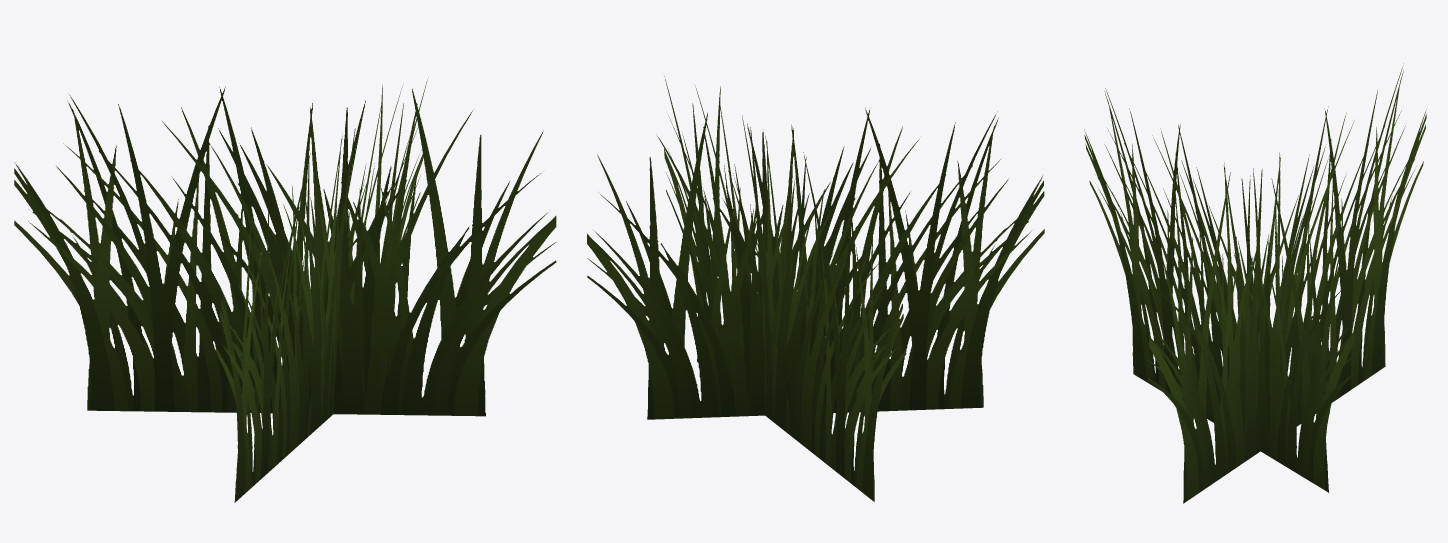
The model's file is grass_3_burnt3.glb.
3 views of the same model, side by side, from view 1: azimuth 30°, elevation 25°; view 2: azimuth 150°, elevation 25°; view 3: azimuth 270°, elevation 25° (orthographic). The views are drawn at different scales.
Visible parts, largest first — view 1: grass_3_burnt3; view 2: grass_3_burnt3; view 3: grass_3_burnt3.
Part boxes in pixels (<box>): grass_3_burnt3: <box>14,77,556,502</box>; grass_3_burnt3: <box>587,76,1044,501</box>; grass_3_burnt3: <box>1084,63,1426,503</box>.
Size of the model in its own units: 0.4868 by 0.3964 by 0.3897.
1 material, 1 textured.
